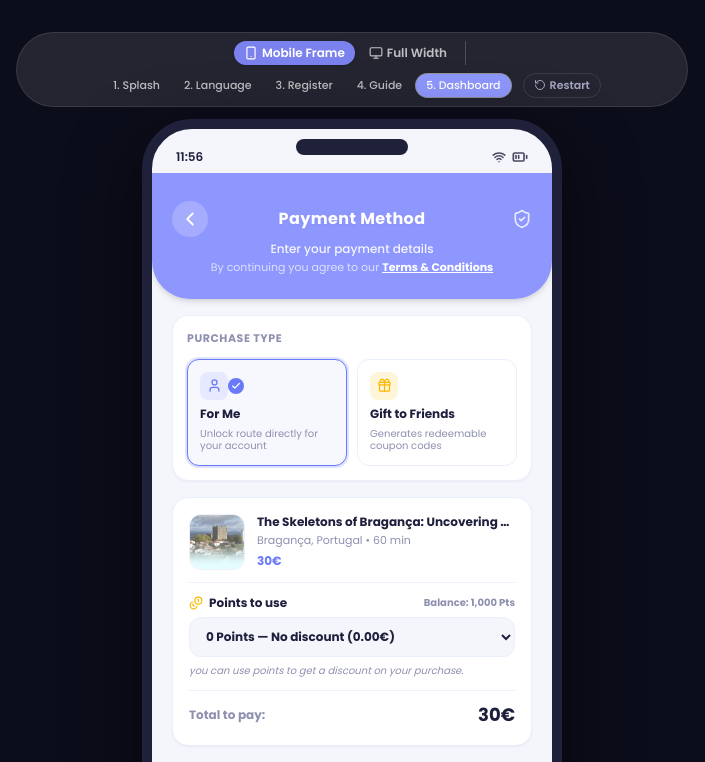
Test: Enigame Payment Gateway & Checkout Flow (07.4, 07.6, 07.7) › simulates successful payment and navigates to 07.6 Purchase Success with gift codes
The image size is (705, 762).
Note: Select Gift
Click the text "Gift to Friends": (412, 414) 370,406 -> 455,422
(page scrolled)
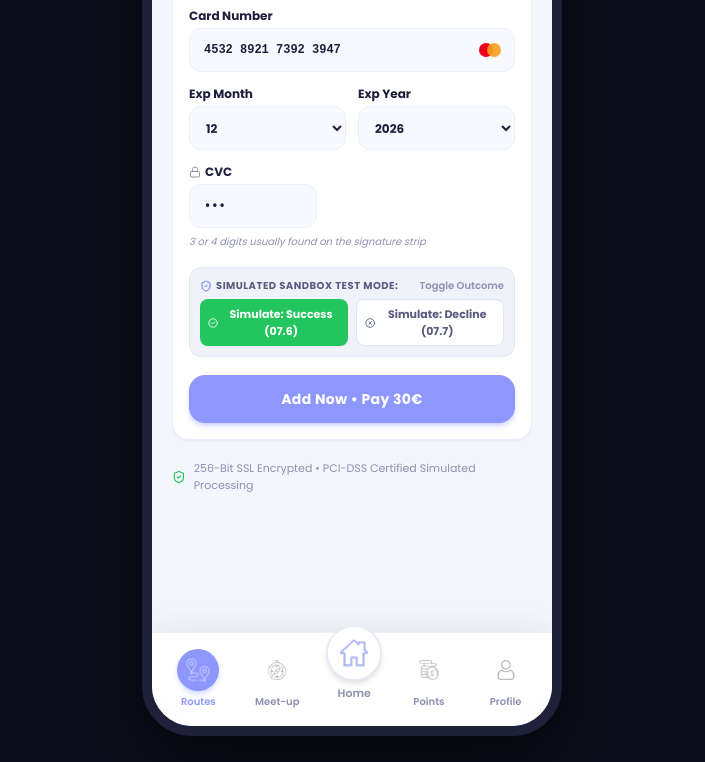
Note: Submit payment
Click the button "Add Now • Pay 30€": (352, 399) 189,375 -> 515,423
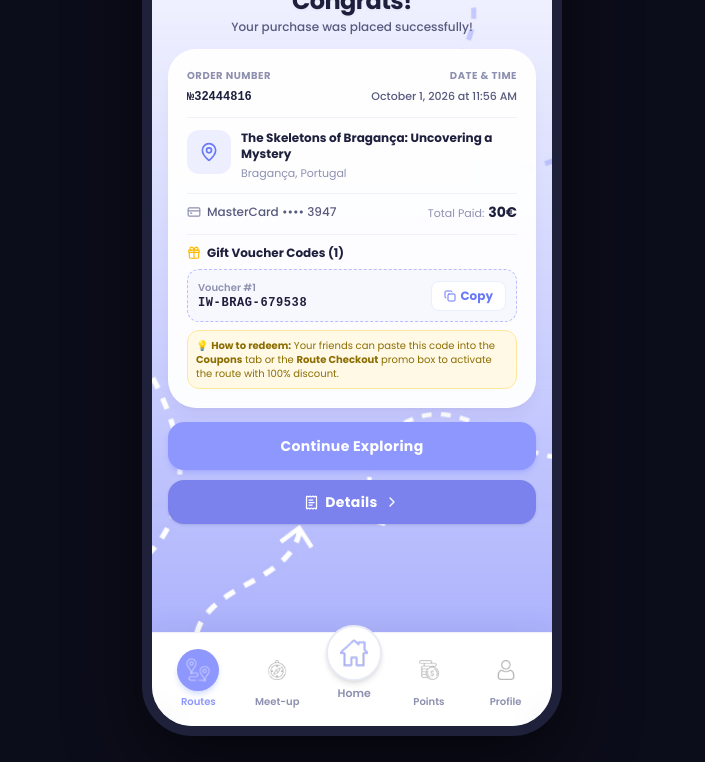
Expected: the text "Your purchase was placed successfully!" is shown, 231,19 -> 473,35
Expected: the text "Gift Voucher Codes (1)" is shown, 207,245 -> 344,261
Expected: the button "Continue Exploring" is shown, 168,422 -> 536,470
